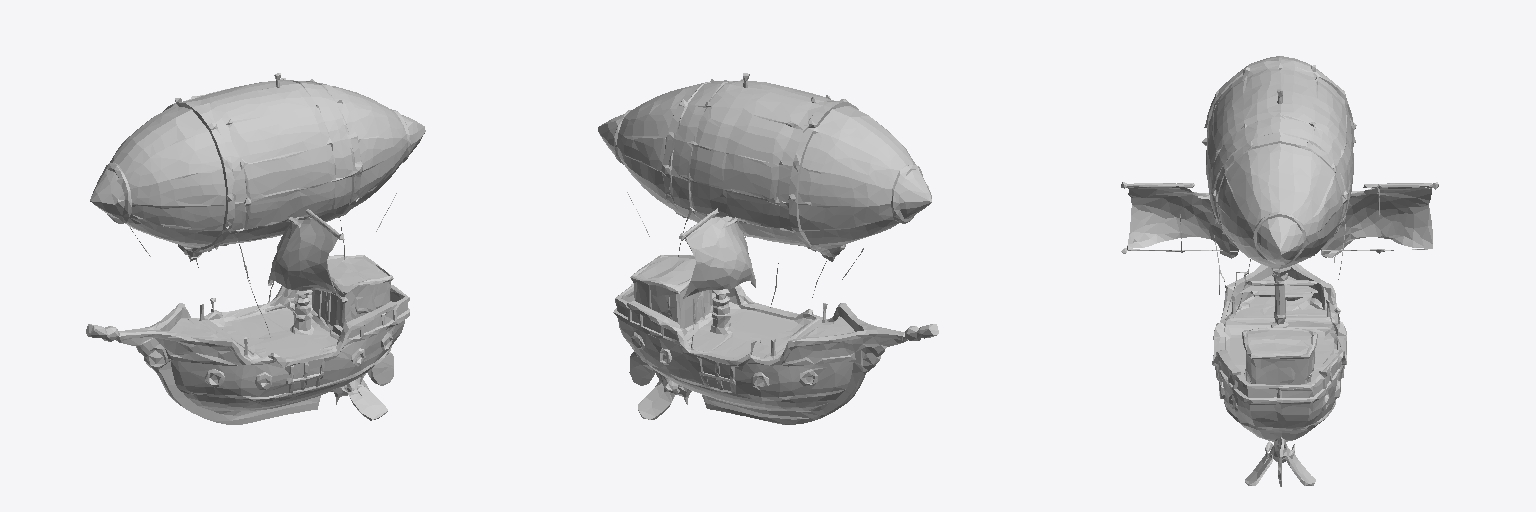
Rendered from Skyward_Vessel_0514124017_texture.obj.
The picture shows the model from 3 angles: view 1: azimuth 30°, elevation 25°; view 2: azimuth 150°, elevation 25°; view 3: azimuth 270°, elevation 25°; orthographic projection.
Visible parts, largest first — view 1: Skyward_Vessel_[number redacted]_texture; view 2: Skyward_Vessel_[number redacted]_texture; view 3: Skyward_Vessel_[number redacted]_texture.
Part boxes in pixels (left/top/right/bottom): Skyward_Vessel_[number redacted]_texture: left=86, top=73, right=425, bottom=424; Skyward_Vessel_[number redacted]_texture: left=598, top=73, right=938, bottom=424; Skyward_Vessel_[number redacted]_texture: left=1121, top=56, right=1438, bottom=486.
Size of the model in its own units: 2 by 2 by 1.63.